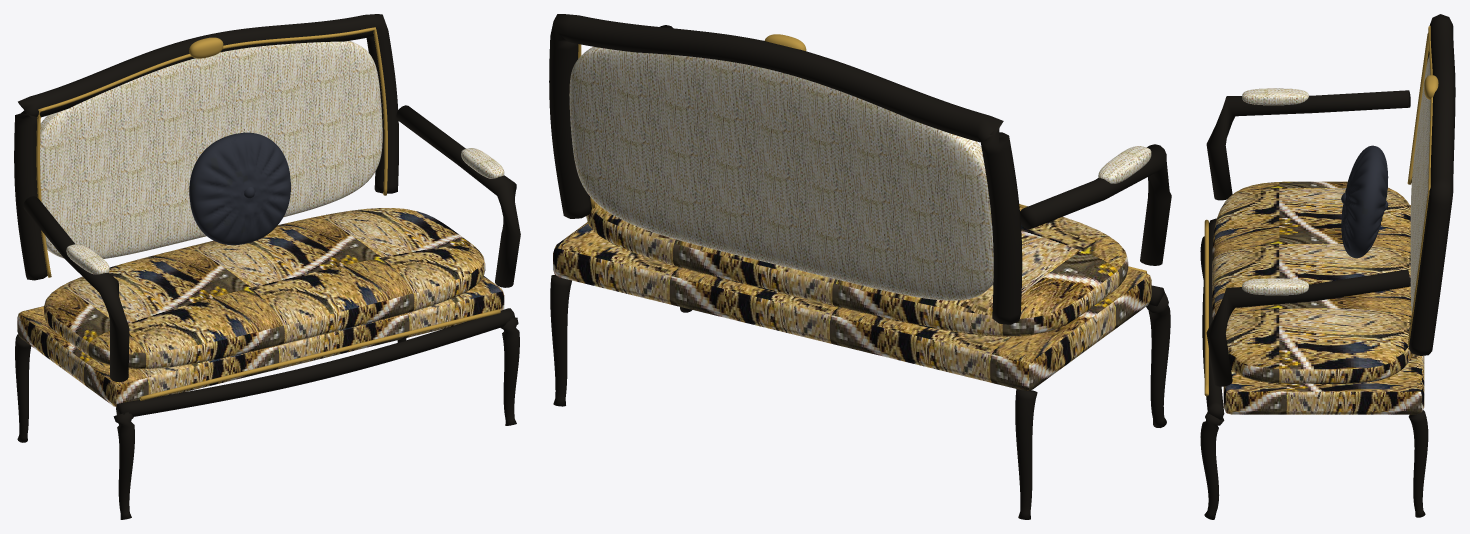
File: talat-royal-tea-set--sofa2.glb
3 renders of one model, left to right at view 1: azimuth 30°, elevation 25°; view 2: azimuth 150°, elevation 25°; view 3: azimuth 270°, elevation 25°, orthographic. The views are drawn at different scales.
Visible parts, largest first — view 1: back, seat, backframe, seatbox, roundpillow, apron, arm1, arm-1, backgold, seatgold, legf0, legf1 (+4 smaller); view 2: back, seatbox, backframe, seat, arm-1, legf0, legb-1, legb1, armpad-1; view 3: seat, backframe, seatbox, arm-1, arm1, roundpillow, back, legf1, legb1, backgold, apron, armpad1 (+2 smaller).
Boxes of the visible parts, x1=… form: back: x1=40, y1=40, x2=382, y2=258; seat: x1=44, y1=208, x2=485, y2=369; backframe: x1=14, y1=14, x2=398, y2=280; seatbox: x1=17, y1=276, x2=504, y2=406; roundpillow: x1=189, y1=132, x2=290, y2=245; apron: x1=116, y1=308, x2=515, y2=416; arm1: x1=396, y1=105, x2=520, y2=287; arm-1: x1=23, y1=196, x2=129, y2=382; backgold: x1=36, y1=27, x2=387, y2=277; seatgold: x1=139, y1=309, x2=500, y2=400; legf0: x1=113, y1=412, x2=134, y2=519; legf1: x1=500, y1=317, x2=519, y2=425; back: x1=569, y1=46, x2=993, y2=300; seatbox: x1=553, y1=222, x2=1151, y2=390; backframe: x1=549, y1=14, x2=1022, y2=324; seat: x1=586, y1=201, x2=1128, y2=336; arm-1: x1=1020, y1=144, x2=1171, y2=265; legf0: x1=1146, y1=293, x2=1170, y2=427; legb-1: x1=1015, y1=389, x2=1037, y2=519; legb1: x1=550, y1=275, x2=571, y2=406; armpad-1: x1=1098, y1=146, x2=1151, y2=183; seat: x1=1212, y1=181, x2=1412, y2=383; backframe: x1=1408, y1=14, x2=1455, y2=355; seatbox: x1=1223, y1=205, x2=1424, y2=414; arm-1: x1=1206, y1=90, x2=1410, y2=200; arm1: x1=1206, y1=269, x2=1410, y2=386; roundpillow: x1=1341, y1=145, x2=1388, y2=258; back: x1=1410, y1=55, x2=1430, y2=313; legf1: x1=1200, y1=411, x2=1224, y2=519; legb1: x1=1408, y1=410, x2=1428, y2=517; backgold: x1=1407, y1=26, x2=1432, y2=345; apron: x1=1202, y1=218, x2=1224, y2=419; armpad1: x1=1242, y1=278, x2=1308, y2=295.
Bounding box in the file's own units: 1.28 × 1.03 × 0.6864.
5 materials, 3 textured.
